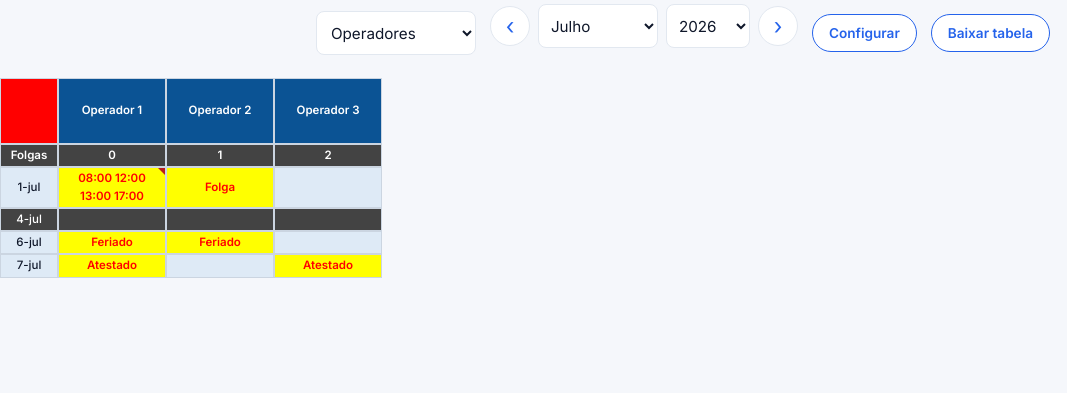
Scenario: GradeRetificacoesComponent › render — grade, popover e barra › a ação do dia em voo marca o rótulo do dia e desabilita o Confirmar
The width and height of the screenshot is (1067, 393).
What coordinates should you click on to do the following:
click the cell with class "rot-dia" showing "1-jul"
I would click on:
 (29, 188)
Its box is [0,167,58,208].
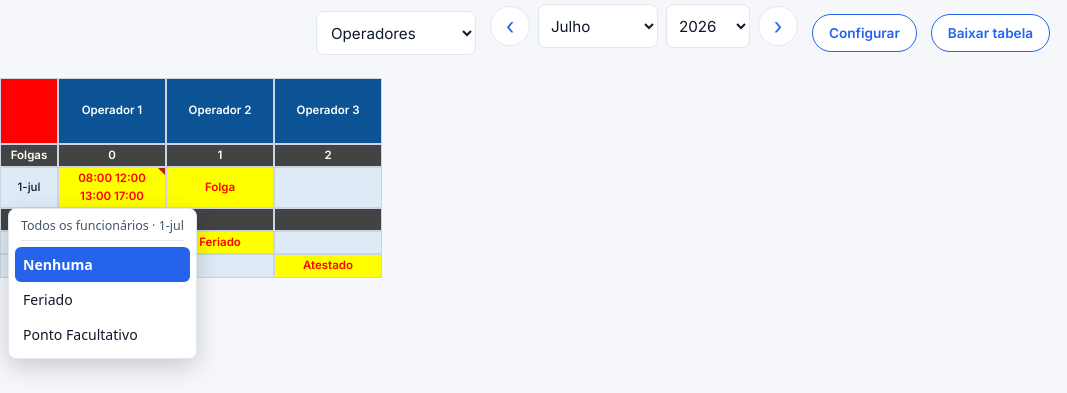
What coordinates should you click on to do the following:
click the button "Feriado"
I would click on:
 (102, 299)
Its box is [15,282,190,317].
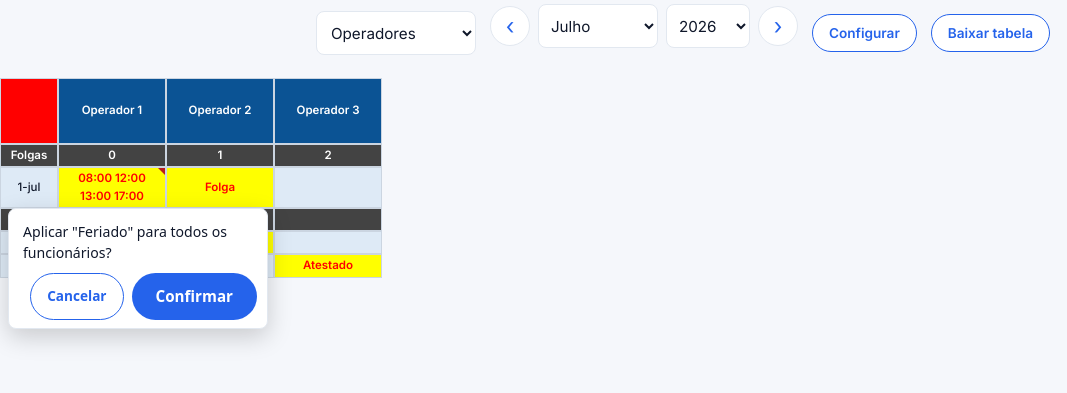
What coordinates should you click on to do the following:
click the button "Confirmar"
I would click on:
 (194, 297)
Its box is [132,273,257,320].
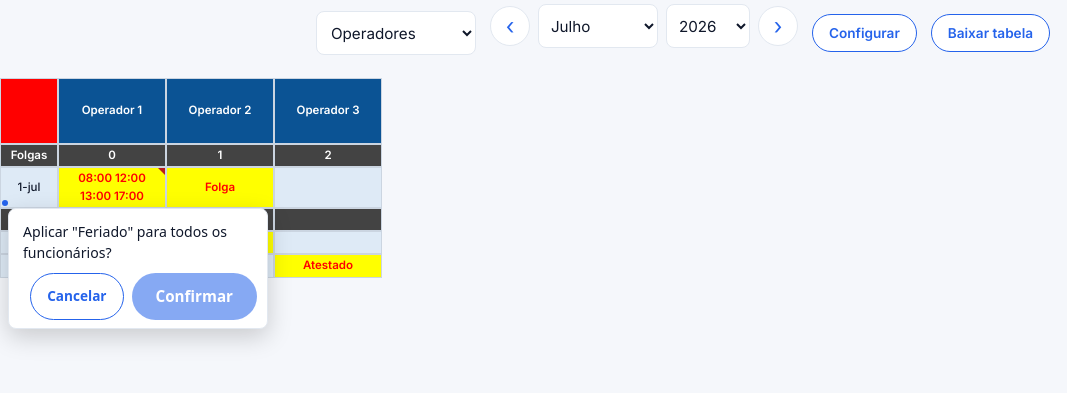
expect the element with class "salvando" is shown: met, box [2,200,8,206]
expect the button "Confirmar" is disabled: met, box [132,273,257,320]
